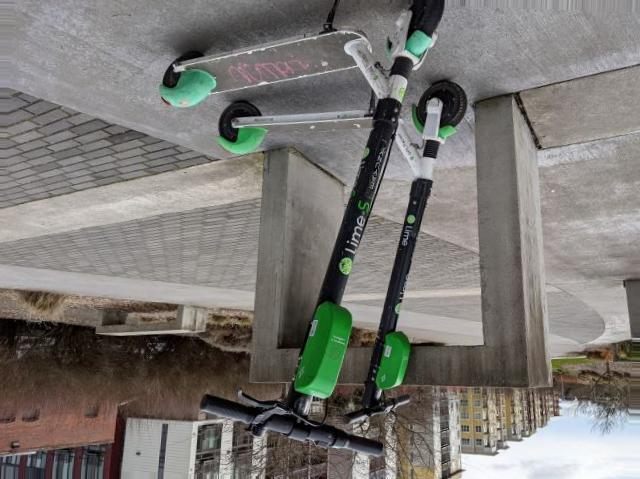scooter: (159, 1, 446, 456), (217, 79, 468, 425)
